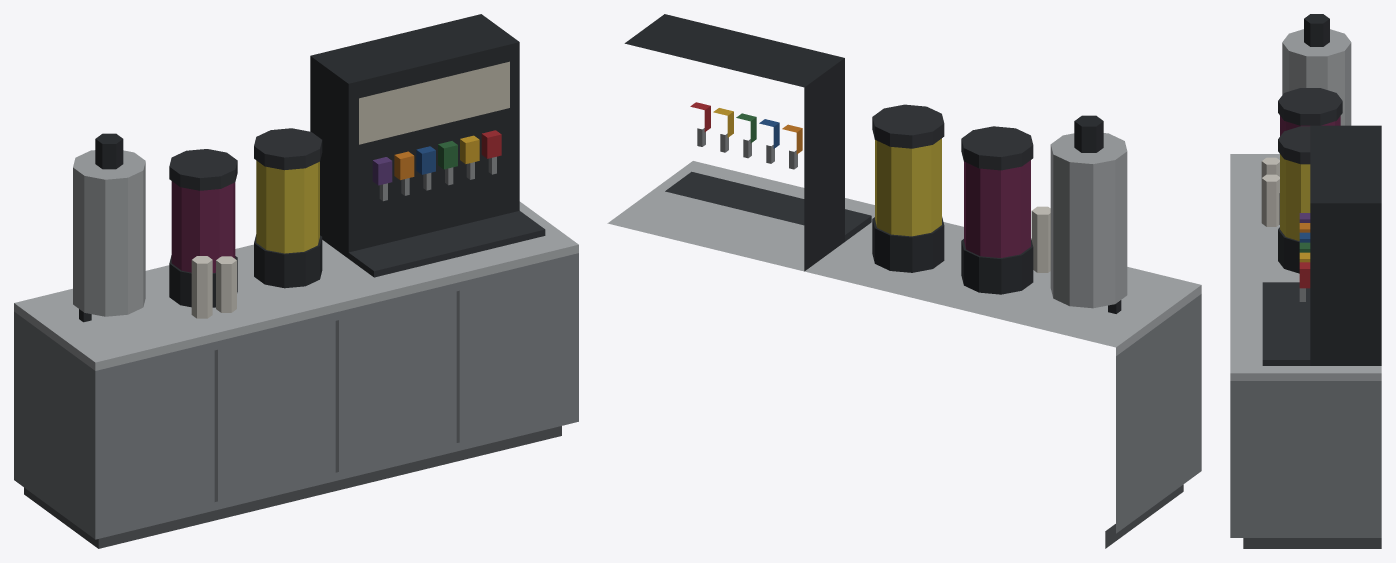
Rendered from shop.drink_station.steel.glb.
3 views of the same model, side by side, from view 1: azimuth 30°, elevation 25°; view 2: azimuth 150°, elevation 25°; view 3: azimuth 270°, elevation 25° (orthographic). The views are drawn at different scales.
Parts seen in each view (by area): view 1: shop_drink_station_steel; view 2: shop_drink_station_steel; view 3: shop_drink_station_steel.
Boxes of the visible parts, box(x1,y1,x2,y2) form: shop_drink_station_steel: box(14, 14, 578, 548); shop_drink_station_steel: box(607, 14, 1201, 548); shop_drink_station_steel: box(1230, 14, 1381, 548).
Size of what is drawn, in the model's own units: 2.4 by 1.75 by 0.7006.
